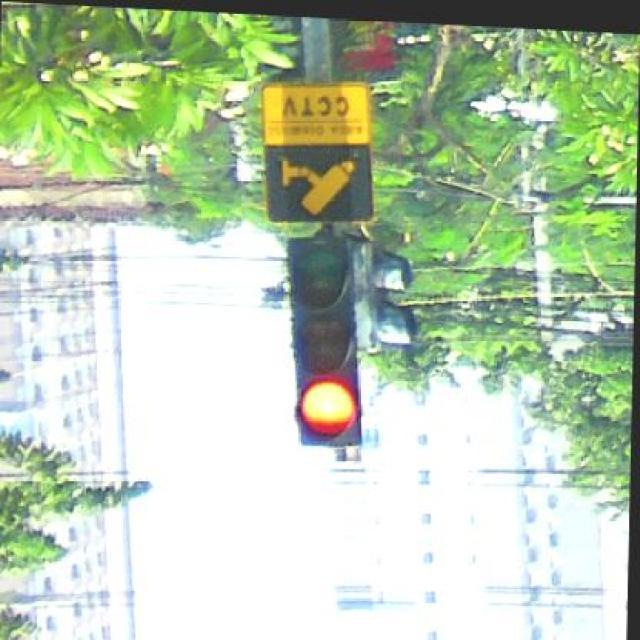traffic light: (286, 236, 363, 449), (264, 144, 374, 223), (353, 241, 417, 354), (370, 247, 417, 351)
